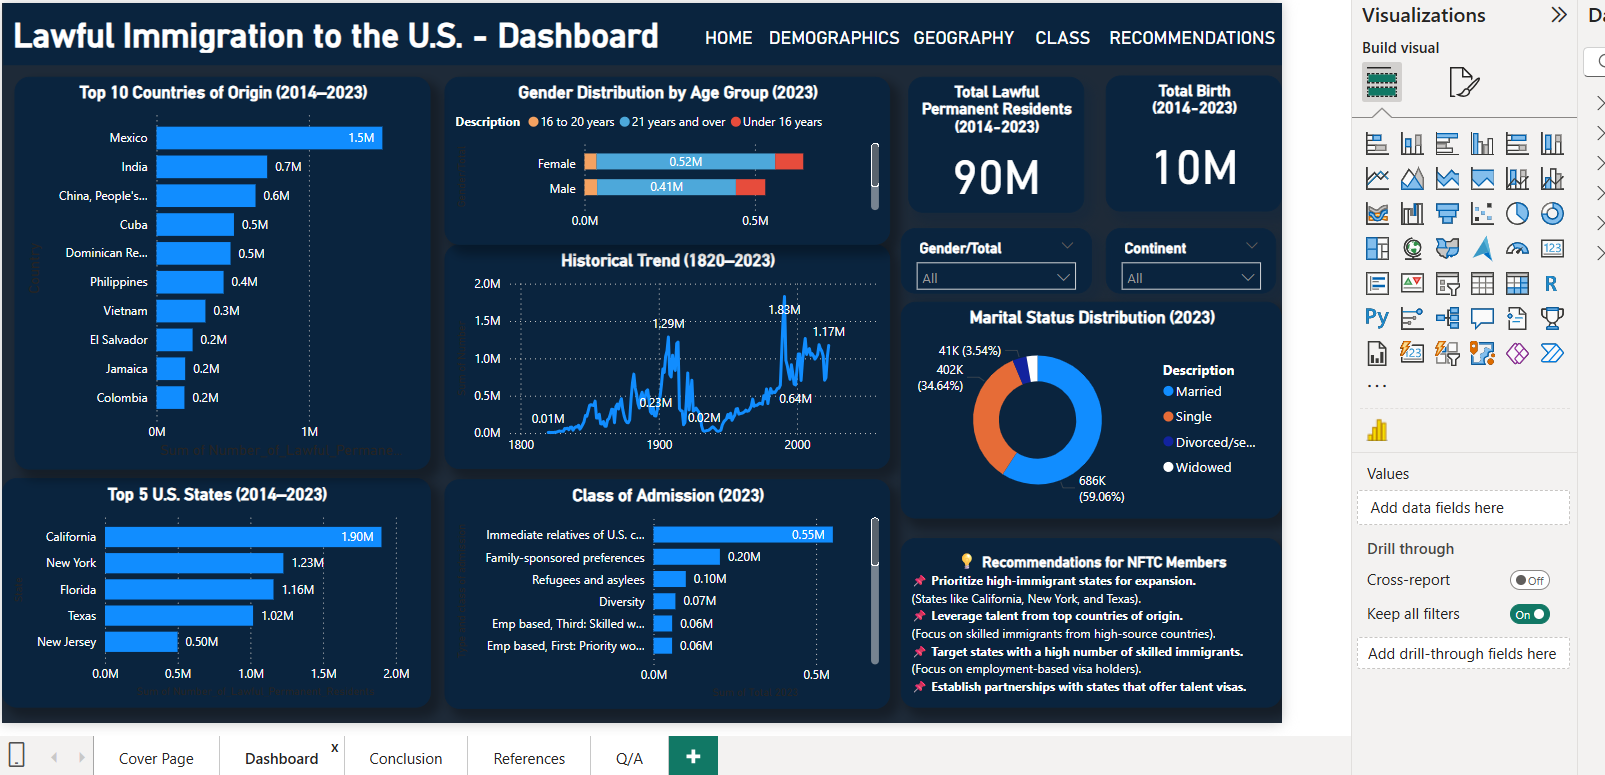

The page's visual inventory and layout, read from the dashboard file:
{"tool":"powerbi","page":{"name":"Dashboard","canvas":[1280,720],"ordinal":1},"visuals":[{"type":"shape","box":[1.1,0,1278.9,62.2],"z":0},{"type":"lineChart","title":"Historical Trend (1820–2023)","fields":{"Category":["History of Lawful Permanent Resident Status (1820–2023)..Year"],"Y":["Sum(History of Lawful Permanent Resident Status (1820–2023)..Number)"]},"box":[442.8,241.3,445.3,224.6],"z":1000},{"type":"barChart","title":"Class of Admission (2023)","fields":{"Category":["Class of Admission (2023)..Type and class of admission"],"Y":["Sum(Class of Admission (2023)..Total 2023)"]},"box":[442.8,476.1,445.3,229.7],"z":2000},{"type":"donutChart","title":"Marital Status Distribution (2023)","fields":{"Y":["Sum(Demographics (sex, age, marital status, occupation) (2023)..Count)"],"Category":["Demographics (sex, age, marital status, occupation) (2023)..Description"]},"box":[898.4,299,381.2,216.9],"z":3000},{"type":"barChart","title":"Top 5 U.S. States (2014–2023)","fields":{"Y":["Sum(State of Residence (2014–2023)..Number_of_Lawful_Permanent_Residents)"],"Category":["State of Residence (2014–2023)..State"]},"box":[0,474.9,428.7,229.7],"z":4000},{"type":"barChart","title":"Gender Distribution by Age Group (2023)","fields":{"Category":["Demographics (sex, age, marital status, occupation) (2023)..Gender/Total"],"Series":["Demographics (sex, age, marital status, occupation) (2023)..Description"],"Y":["Sum(Demographics (sex, age, marital status, occupation) (2023)..Count)"]},"box":[442.8,73.2,445.3,168.1],"z":5000},{"type":"textbox","box":[898.4,535.2,381.2,169.4],"z":6000},{"type":"barChart","title":"Top 10 Countries of Origin (2014–2023)","fields":{"Category":["Country of Birth (2014–2023)..Country"],"Y":["Sum(Country of Birth (2014–2023)..Number_of_Lawful_Permanent_Residents)"]},"box":[12.8,73.2,415.8,392.7],"z":7000},{"type":"slicer","fields":{"Values":["Country-Continent Dictionary..Continent"]},"box":[1103.7,224.6,170.7,65.5],"z":8000},{"type":"slicer","fields":{"Values":["Demographics (sex, age, marital status, occupation) (2023)..Gender/Total"]},"box":[898.4,224.6,191.2,65.5],"z":9000},{"type":"card","title":"Total Lawful Permanent Residents (2014-2023)","fields":{"Values":["Sum(History of Lawful Permanent Resident Status (1820–2023)..Number)"]},"box":[906.1,73.2,175.8,136],"z":10000},{"type":"actionButton","title":"HOME","box":[676.7,23.3,101.1,20],"z":11000},{"type":"actionButton","title":"DEMOGRAPHICS","box":[765.8,23.9,132.1,19.1],"z":12000},{"type":"actionButton","title":"GEOGRAPHY","box":[905.9,23.9,111.4,19.1],"z":13000},{"type":"actionButton","title":"CLASS ","box":[1015.7,23.9,89.2,19.1],"z":14000},{"type":"actionButton","title":"RECOMMENDATIONS","box":[1104.9,23.9,170.3,19.1],"z":15000},{"type":"textbox","box":[1.6,8,665.5,47.8],"z":16000},{"type":"card","title":"Total Birth (2014-2023)","fields":{"Values":["Sum(Country of Birth (2014–2023)..Number_of_Lawful_Permanent_Residents)"]},"box":[1103.7,72.7,176.3,135.7],"z":17000}]}

Visuals, with their boxes on the page's 1280x720 design canvas (x1, y1, x2, y2). These are canvas units, not pixel positions in the 1605x775 screenshot, which may show the page scaled, cropped or inside an application window:
shape: bbox=[1, 0, 1280, 62]
"Historical Trend (1820–2023)" lineChart: bbox=[443, 241, 888, 466]
"Class of Admission (2023)" barChart: bbox=[443, 476, 888, 706]
"Marital Status Distribution (2023)" donutChart: bbox=[898, 299, 1280, 516]
"Top 5 U.S. States (2014–2023)" barChart: bbox=[0, 475, 429, 705]
"Gender Distribution by Age Group (2023)" barChart: bbox=[443, 73, 888, 241]
textbox: bbox=[898, 535, 1280, 705]
"Top 10 Countries of Origin (2014–2023)" barChart: bbox=[13, 73, 429, 466]
slicer - Country-Continent Dictionary..Continent: bbox=[1104, 225, 1274, 290]
slicer - Demographics (sex, age, marital status, occupation) (2023)..Gender/Total: bbox=[898, 225, 1090, 290]
"Total Lawful Permanent Residents (2014-2023)" card: bbox=[906, 73, 1082, 209]
"HOME" actionButton: bbox=[677, 23, 778, 43]
"DEMOGRAPHICS" actionButton: bbox=[766, 24, 898, 43]
"GEOGRAPHY" actionButton: bbox=[906, 24, 1017, 43]
"CLASS " actionButton: bbox=[1016, 24, 1105, 43]
"RECOMMENDATIONS" actionButton: bbox=[1105, 24, 1275, 43]
textbox: bbox=[2, 8, 667, 56]
"Total Birth (2014-2023)" card: bbox=[1104, 73, 1280, 208]
